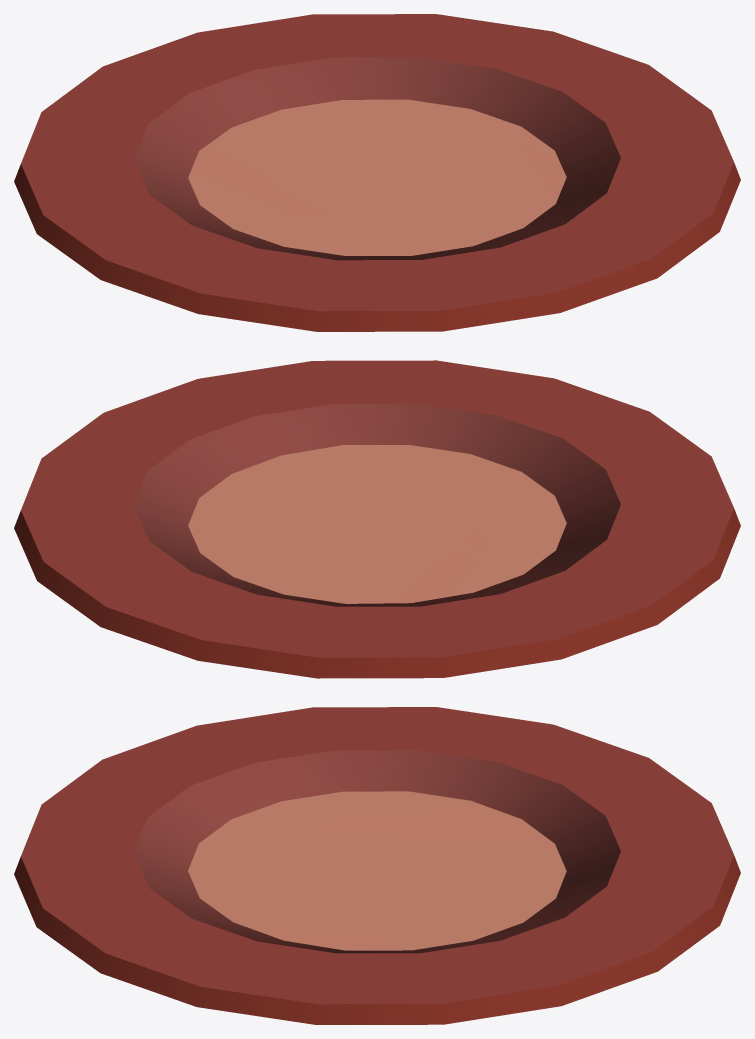
The model's file is SM_TA_Tile_End.fbx.
The picture shows the model from 3 angles, top to bottom: view 1: azimuth 30°, elevation 25°; view 2: azimuth 150°, elevation 25°; view 3: azimuth 270°, elevation 25°; orthographic projection.
Parts seen in each view (by area): view 1: Tile_End; view 2: Tile_End; view 3: Tile_End.
Boxes of the visible parts, bbox=[...] form: Tile_End: bbox=[14, 14, 740, 331]; Tile_End: bbox=[14, 360, 740, 678]; Tile_End: bbox=[14, 707, 740, 1024].
Size of the model in its own units: 0.8452 by 0.029 by 0.8573.
